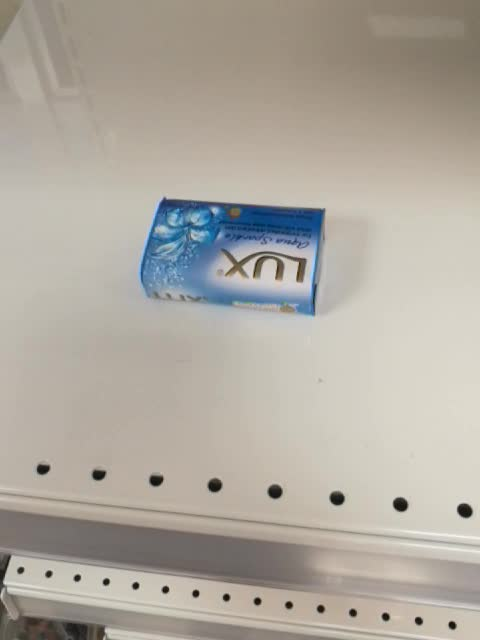soap: (137, 196, 326, 321)
